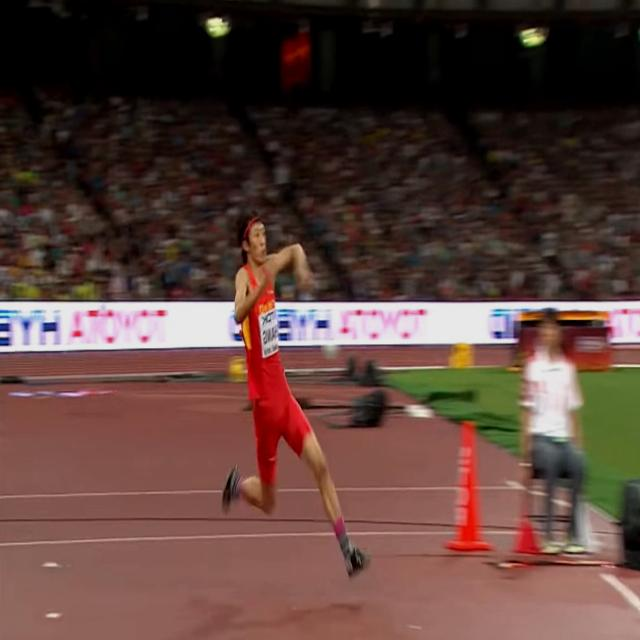run: (220, 212, 372, 578)
